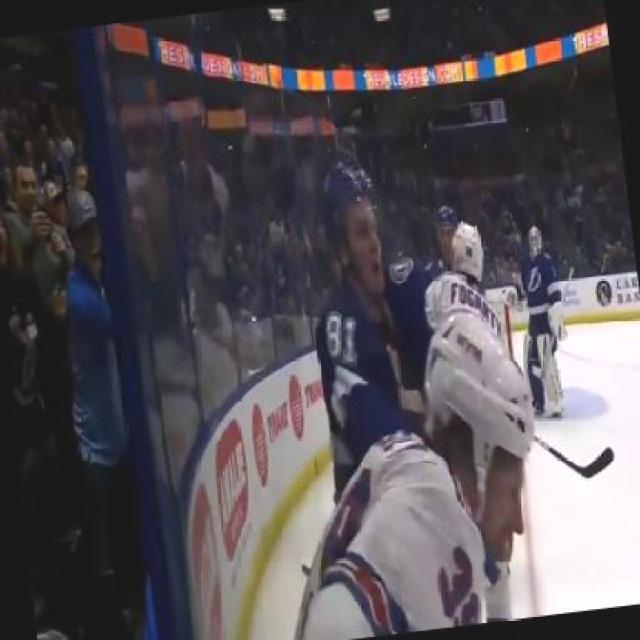fight: (290, 128, 556, 638)
non-fight: (500, 218, 578, 420)
